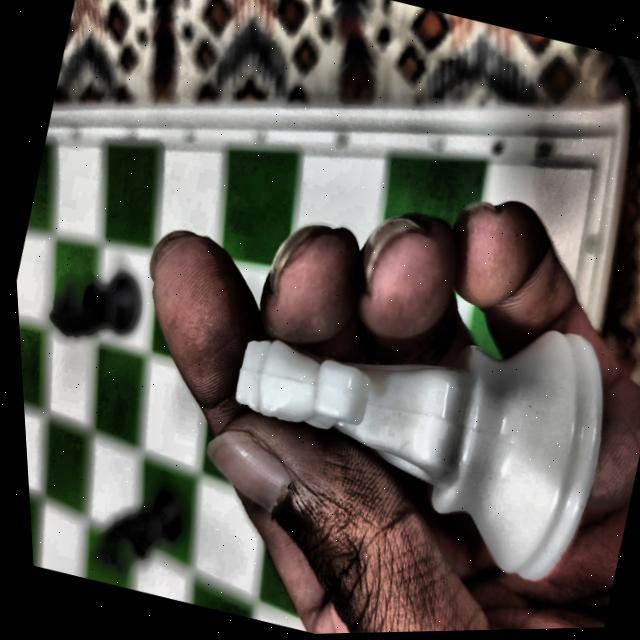WhiteKnight: (194, 245, 632, 601)
